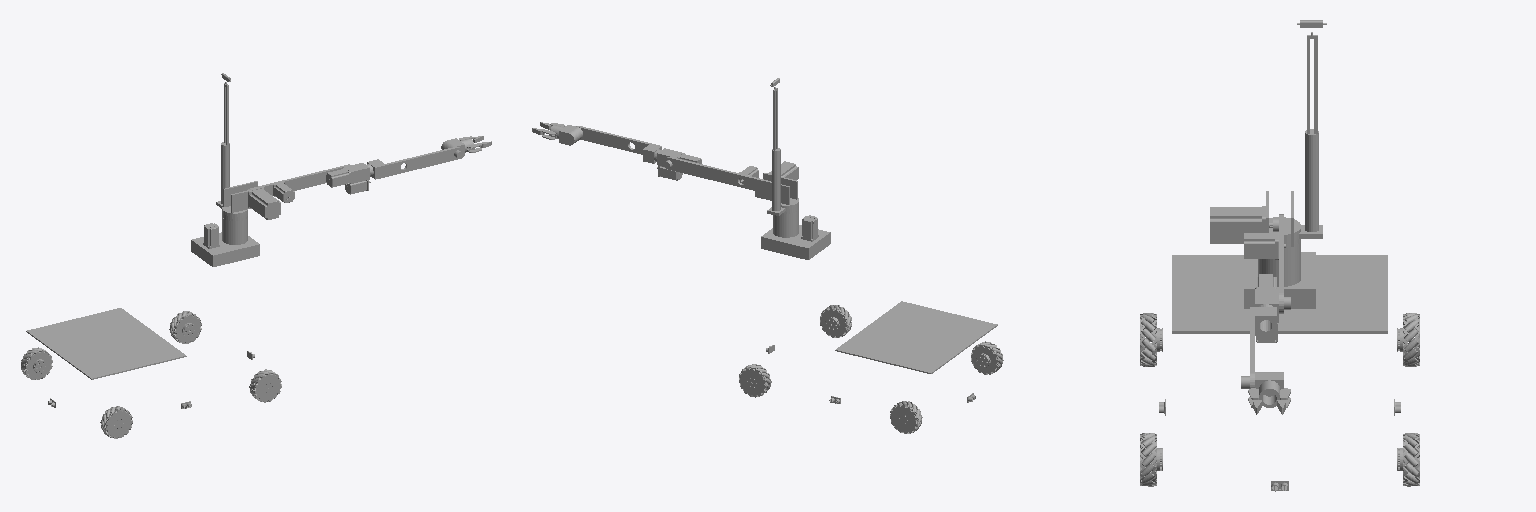
--- Render facts (derived) ---
The picture shows the robot from 3 angles, left to right: view 1: azimuth 30°, elevation 25°; view 2: azimuth 150°, elevation 25°; view 3: azimuth 270°, elevation 25°; orthographic projection.
Robot: robot — 39 links, 38 joints (13 continuous, 25 fixed); root link base_frame; default pose: all joints at 0.
Visible links, largest first — view 1: nylon_platform_1, arm_base_1, base_turnable_1, link_3_1, wheel_front_left_1, wheel_back_right_1, wheel_front_right_1, wheel_back_left_1, NEMA_34_1, link_1_1; view 2: nylon_platform_1, base_turnable_1, arm_base_1, link_1_1, link_3_1, wheel_front_left_1, wheel_back_right_1, wheel_front_right_1, wheel_back_left_1; view 3: nylon_platform_1, base_turnable_1, arm_base_1, NEMA_34_1, link_3_1, wheel_back_left_1, wheel_back_right_1, wheel_front_right_1, wheel_front_left_1, NEMA_24_2_1, modified_gripper_v3_1.
Boxes of the visible links, <box> form: nylon_platform_1: <box>26,308,186,379</box>; arm_base_1: <box>191,217,259,266</box>; base_turnable_1: <box>216,82,265,220</box>; link_3_1: <box>367,147,462,179</box>; wheel_front_left_1: <box>169,311,201,343</box>; wheel_back_right_1: <box>100,406,132,438</box>; wheel_front_right_1: <box>249,369,281,402</box>; wheel_back_left_1: <box>21,347,52,379</box>; NEMA_34_1: <box>248,188,280,219</box>; link_1_1: <box>248,164,349,195</box>; nylon_platform_1: <box>835,301,997,373</box>; base_turnable_1: <box>755,87,798,215</box>; arm_base_1: <box>761,210,830,259</box>; link_1_1: <box>663,157,770,190</box>; link_3_1: <box>576,126,661,163</box>; wheel_front_left_1: <box>739,364,771,397</box>; wheel_back_right_1: <box>971,341,1003,374</box>; wheel_front_right_1: <box>820,305,851,337</box>; wheel_back_left_1: <box>890,401,922,433</box>; nylon_platform_1: <box>1172,255,1387,333</box>; base_turnable_1: <box>1266,32,1322,247</box>; arm_base_1: <box>1244,242,1315,308</box>; NEMA_34_1: <box>1210,206,1272,243</box>; link_3_1: <box>1250,304,1276,388</box>; wheel_back_left_1: <box>1397,313,1419,366</box>; wheel_back_right_1: <box>1140,313,1162,366</box>; wheel_front_right_1: <box>1140,433,1162,486</box>; wheel_front_left_1: <box>1397,433,1419,486</box>; NEMA_24_2_1: <box>1244,232,1285,259</box>; modified_gripper_v3_1: <box>1248,380,1290,407</box>.
Size in the robot's own frame: 2.3 by 0.7818 by 1.45 metres.
25 mesh visuals loaded from 28 distinct referenced files (4 binary STL, 21 Collada DAE); not drawn: 3 (reference not matched to a file when rendering).

The robot description file, URDF, robot "robot":
<?xml version="1.0" ?>
<!-- =================================================================================== -->
<!-- |    This document was autogenerated by xacro from robot.xacro                    | -->
<!-- |    EDITING THIS FILE BY HAND IS NOT RECOMMENDED                                 | -->
<!-- =================================================================================== -->
<robot name="robot">
  <material name="silver">
    <color rgba="0.700 0.700 0.700 1.000"/>
  </material>
  <transmission name="link_1_joint_tran">
    <type>transmission_interface/SimpleTransmission</type>
    <joint name="link_1_joint">
      <hardwareInterface>hardware_interface/VelocityJointInterface</hardwareInterface>
    </joint>
    <actuator name="link_1_joint_actr">
      <hardwareInterface>hardware_interface/VelocityJointInterface</hardwareInterface>
      <mechanicalReduction>1</mechanicalReduction>
    </actuator>
  </transmission>
  <transmission name="link_2_joint_tran">
    <type>transmission_interface/SimpleTransmission</type>
    <joint name="link_2_joint">
      <hardwareInterface>hardware_interface/VelocityJointInterface</hardwareInterface>
    </joint>
    <actuator name="link_2_joint_actr">
      <hardwareInterface>hardware_interface/VelocityJointInterface</hardwareInterface>
      <mechanicalReduction>1</mechanicalReduction>
    </actuator>
  </transmission>
  <transmission name="link_3_joint_tran">
    <type>transmission_interface/SimpleTransmission</type>
    <joint name="link_3_joint">
      <hardwareInterface>hardware_interface/VelocityJointInterface</hardwareInterface>
    </joint>
    <actuator name="link_3_joint_actr">
      <hardwareInterface>hardware_interface/VelocityJointInterface</hardwareInterface>
      <mechanicalReduction>1</mechanicalReduction>
    </actuator>
  </transmission>
  <transmission name="link_end_joint_tran">
    <type>transmission_interface/SimpleTransmission</type>
    <joint name="link_end_joint">
      <hardwareInterface>hardware_interface/VelocityJointInterface</hardwareInterface>
    </joint>
    <actuator name="link_end_joint_actr">
      <hardwareInterface>hardware_interface/VelocityJointInterface</hardwareInterface>
      <mechanicalReduction>1</mechanicalReduction>
    </actuator>
  </transmission>
  <!--

<transmission name="finger_1_joint_tran">
  <type>transmission_interface/SimpleTransmission</type>
  <joint name="finger_1_joint">
    <hardwareInterface>hardware_interface/VelocityJointInterface</hardwareInterface>
  </joint>
  <actuator name="finger_1_joint_actr">
    <hardwareInterface>hardware_interface/VelocityJointInterface</hardwareInterface>
    <mechanicalReduction>1</mechanicalReduction>
  </actuator>
</transmission>

<transmission name="finger_2_joint_tran">
  <type>transmission_interface/SimpleTransmission</type>
  <joint name="finger_2_joint">
    <hardwareInterface>hardware_interface/VelocityJointInterface</hardwareInterface>
  </joint>
  <actuator name="finger_2_joint_actr">
    <hardwareInterface>hardware_interface/VelocityJointInterface</hardwareInterface>
    <mechanicalReduction>1</mechanicalReduction>
  </actuator>
</transmission>

<transmission name="finger_3_joint_tran">
  <type>transmission_interface/SimpleTransmission</type>
  <joint name="finger_3_joint">
    <hardwareInterface>hardware_interface/VelocityJointInterface</hardwareInterface>
  </joint>
  <actuator name="finger_3_joint_actr">
    <hardwareInterface>hardware_interface/VelocityJointInterface</hardwareInterface>
    <mechanicalReduction>1</mechanicalReduction>
  </actuator>
</transmission>
-->
  <!-- <transmission name="gripper_axis_rev_tran">
  <type>transmission_interface/SimpleTransmission</type>
  <joint name="gripper_axis_rev">
    <hardwareInterface>hardware_interface/VelocityJointInterface</hardwareInterface>
  </joint>
  <actuator name="gripper_axis_rev_actr">
    <hardwareInterface>hardware_interface/VelocityJointInterface</hardwareInterface>
    <mechanicalReduction>1</mechanicalReduction>
  </actuator>
</transmission> -->
  <!--


<joint name="Rev45" type="continuous">
  <origin rpy="0 0 0" xyz="0.0845 -0.0325 0.0"/>
  <parent link="modified_gripper_v3_1"/>
  <child link="finger_1_1"/>
  <axis xyz="0.0 0.0 -1.0"/>
</joint>

<joint name="Rev46" type="continuous">
  <origin rpy="0 0 0" xyz="0.049755 -0.89 -1.683756"/>
  <parent link="modified_gripper_v3_1"/>
  <child link="finger_1_3"/>
  <axis xyz="-0.0 0.0 1.0"/>
</joint>

<joint name="Rev47" type="continuous">
  <origin rpy="0 0 0" xyz="0.004109 0.09 0.629833"/>
  <parent link="base_turnable_1"/>
  <child link="camera_stuff_MODIFIED_camera_pitch_rotation_stand_v1_1"/>
  <axis xyz="0.001414 0.0 -0.999999"/>
</joint>


-->
  <!--Finger 1_1 -->
  <transmission name="finger_1_tran">
    <type>transmission_interface/SimpleTransmission</type>
    <joint name="finger_1_revolute_joint">
      <hardwareInterface>hardware_interface/VelocityJointInterface</hardwareInterface>
    </joint>
    <actuator name="finger_1_revolute_actr">
      <hardwareInterface>hardware_interface/VelocityJointInterface</hardwareInterface>
      <mechanicalReduction>1</mechanicalReduction>
    </actuator>
  </transmission>
  <!-- FINGER_1_2 -->
  <transmission name="finger_2_tran">
    <type>transmission_interface/SimpleTransmission</type>
    <joint name="finger_2_revolute_joint">
      <hardwareInterface>hardware_interface/VelocityJointInterface</hardwareInterface>
    </joint>
    <actuator name="finger_2_revolute_actr">
      <hardwareInterface>hardware_interface/VelocityJointInterface</hardwareInterface>
      <mechanicalReduction>1</mechanicalReduction>
    </actuator>
  </transmission>
  <!-- camera  pitch rotation stand yaw -->
  <transmission name="camera_yaw_rotation_tran">
    <type>transmission_interface/SimpleTransmission</type>
    <joint name="camera_yaw_rotation">
      <hardwareInterface>hardware_interface/VelocityJointInterface</hardwareInterface>
    </joint>
    <actuator name="camera_yaw_rotation_actr">
      <hardwareInterface>hardware_interface/VelocityJointInterface</hardwareInterface>
      <mechanicalReduction>1</mechanicalReduction>
    </actuator>
  </transmission>
  <!-- camera_stuff_MODIFIED_camera_pitch_rotation_base_v1_1 pitch -->
  <transmission name="camera_pitch_rotation_tran">
    <type>transmission_interface/SimpleTransmission</type>
    <joint name="camera_pitch_rotation">
      <hardwareInterface>hardware_interface/VelocityJointInterface</hardwareInterface>
    </joint>
    <actuator name="camera_pitch_rotation_actr">
      <hardwareInterface>hardware_interface/VelocityJointInterface</hardwareInterface>
      <mechanicalReduction>1</mechanicalReduction>
    </actuator>
  </transmission>
  <!--
<transmission name="Rev49_tran">
  <type>transmission_interface/SimpleTransmission</type>
  <joint name="Rev49">
    <hardwareInterface>hardware_interface/VelocityJointInterface</hardwareInterface>
  </joint>
  <actuator name="Rev49_actr">
    <hardwareInterface>hardware_interface/VelocityJointInterface</hardwareInterface>
    <mechanicalReduction>1</mechanicalReduction>
  </actuator>
</transmission>
-->
  <!--
<transmission name="wheel_joint_front_left_tran">
  <type>transmission_interface/SimpleTransmission</type>
  <joint name="wheel_joint_front_left">
    <hardwareInterface>hardware_interface/VelocityJointInterface</hardwareInterface>
  </joint>
  <actuator name="wheel_joint_front_left_actr">
    <hardwareInterface>hardware_interface/VelocityJointInterface</hardwareInterface>
    <mechanicalReduction>1</mechanicalReduction>
  </actuator>
</transmission>

<transmission name="wheel_joint_back_right_tran">
  <type>transmission_interface/SimpleTransmission</type>
  <joint name="wheel_joint_back_right">
    <hardwareInterface>hardware_interface/VelocityJointInterface</hardwareInterface>
  </joint>
  <actuator name="wheel_joint_back_right_actr">
    <hardwareInterface>hardware_interface/VelocityJointInterface</hardwareInterface>
    <mechanicalReduction>1</mechanicalReduction>
  </actuator>
</transmission>

<transmission name="wheel_joint_front_right_tran">
  <type>transmission_interface/SimpleTransmission</type>
  <joint name="wheel_joint_front_right">
    <hardwareInterface>hardware_interface/VelocityJointInterface</hardwareInterface>
  </joint>
  <actuator name="wheel_joint_front_right_actr">
    <hardwareInterface>hardware_interface/VelocityJointInterface</hardwareInterface>
    <mechanicalReduction>1</mechanicalReduction>
  </actuator>
</transmission>

<transmission name="wheel_joint_back_left_tran">
  <type>transmission_interface/SimpleTransmission</type>
  <joint name="wheel_joint_back_left">
    <hardwareInterface>hardware_interface/VelocityJointInterface</hardwareInterface>
  </joint>
  <actuator name="wheel_joint_back_left_actr">
    <hardwareInterface>hardware_interface/VelocityJointInterface</hardwareInterface>
    <mechanicalReduction>1</mechanicalReduction>
  </actuator>
</transmission>
-->
  <transmission name="arm_base_joint_tran">
    <type>transmission_interface/SimpleTransmission</type>
    <joint name="arm_base_joint">
      <hardwareInterface>hardware_interface/VelocityJointInterface</hardwareInterface>
    </joint>
    <actuator name="arm_base_joint_actr">
      <hardwareInterface>hardware_interface/VelocityJointInterface</hardwareInterface>
      <mechanicalReduction>1</mechanicalReduction>
    </actuator>
  </transmission>
  <!--
<transmission name="camera_revolute_tran">
  <type>transmission_interface/SimpleTransmission</type>
  <joint name="camera_revolute">
    <hardwareInterface>hardware_interface/VelocityJointInterface</hardwareInterface>
  </joint>
  <actuator name="camera_revolute_actr">
    <hardwareInterface>hardware_interface/VelocityJointInterface</hardwareInterface>
    <mechanicalReduction>1</mechanicalReduction>
  </actuator>
</transmission>
-->
  <gazebo>
    <plugin filename="libgazebo_ros_control.so" name="gazebo_ros_control">
      <robotNamespace>/robot</robotNamespace>
      <robotSimType>gazebo_ros_control/DefaultRobotHWSim</robotSimType>
    </plugin>
  </gazebo>
  <gazebo>
    <plugin filename="libnexus_ros_force_based_move.so" name="nexus_ros_force_based_move">
      <commandTopic>cmd_vel</commandTopic>
      <odometryTopic>odom</odometryTopic>
      <odometryFrame>odom</odometryFrame>
      <odometryRate>25.0</odometryRate>
      <robotBaseFrame>base_frame</robotBaseFrame>
      <cmdVelTimeOut>0.25</cmdVelTimeOut>
      <publishOdometryTf>0</publishOdometryTf>
      <yaw_velocity_p_gain>100.0</yaw_velocity_p_gain>
      <x_velocity_p_gain>150.0</x_velocity_p_gain>
      <y_velocity_p_gain>150.0</y_velocity_p_gain>
      <max_x_velocity>10.0</max_x_velocity>
      <max_y_velocity>10.0</max_y_velocity>
      <max_yaw_velocity>5.0</max_yaw_velocity>
    </plugin>
  </gazebo>
  <gazebo reference="dummy">
    <gravity>true</gravity>
  </gazebo>
  <gazebo reference="base_link">
    <material>Gazebo/Silver</material>
    <mu1>0.2</mu1>
    <mu2>0.2</mu2>
    <selfCollide>true</selfCollide>
  </gazebo>
  <gazebo reference="arm_base_1">
    <material>Gazebo/Silver</material>
    <mu1>0.2</mu1>
    <mu2>0.2</mu2>
    <selfCollide>true</selfCollide>
  </gazebo>
  <gazebo reference="stepper_joint_1">
    <material>Gazebo/Silver</material>
    <mu1>0.2</mu1>
    <mu2>0.2</mu2>
    <selfCollide>true</selfCollide>
  </gazebo>
  <gazebo reference="link_1_1">
    <material>Gazebo/Silver</material>
    <mu1>0.2</mu1>
    <mu2>0.2</mu2>
    <selfCollide>true</selfCollide>
  </gazebo>
  <gazebo reference="link_2_1">
    <material>Gazebo/Silver</material>
    <mu1>0.2</mu1>
    <mu2>0.2</mu2>
    <selfCollide>true</selfCollide>
  </gazebo>
  <gazebo reference="link_3_1">
    <material>Gazebo/Silver</material>
    <mu1>0.2</mu1>
    <mu2>0.2</mu2>
    <selfCollide>true</selfCollide>
  </gazebo>
  <gazebo reference="link_end_1">
    <material>Gazebo/Silver</material>
    <mu1>0.2</mu1>
    <mu2>0.2</mu2>
    <selfCollide>true</selfCollide>
  </gazebo>
  <gazebo reference="NEMA_24_2_1">
    <material>Gazebo/Silver</material>
    <mu1>0.2</mu1>
    <mu2>0.2</mu2>
    <selfCollide>true</selfCollide>
  </gazebo>
  <gazebo reference="NEMA_24_3_1">
    <material>Gazebo/Silver</material>
    <mu1>0.2</mu1>
    <mu2>0.2</mu2>
    <selfCollide>true</selfCollide>
  </gazebo>
  <gazebo reference="NEMA_24_4_1">
    <material>Gazebo/Silver</material>
    <mu1>0.2</mu1>
    <mu2>0.2</mu2>
    <selfCollide>true</selfCollide>
  </gazebo>
  <gazebo reference="modified_gripper_v3_1">
    <material>Gazebo/Silver</material>
    <mu1>0.2</mu1>
    <mu2>0.2</mu2>
    <selfCollide>true</selfCollide>
  </gazebo>
  <gazebo reference="finger_1_1">
    <material>Gazebo/Silver</material>
    <mu1>0.0</mu1>
    <mu2>0.0</mu2>
    <selfCollide>true</selfCollide>
  </gazebo>
  <gazebo reference="finger_2_1">
    <material>Gazebo/Silver</material>
    <mu1>0.0</mu1>
    <mu2>0.0</mu2>
    <selfCollide>true</selfCollide>
  </gazebo>
  <gazebo reference="camera_stuff_MODIFIED_camera_pitch_rotation_stand_v1_1">
    <material>Gazebo/Silver</material>
    <mu1>0.2</mu1>
    <mu2>0.2</mu2>
    <selfCollide>true</selfCollide>
  </gazebo>
  <gazebo reference="camera_stuff_MODIFIED_camera_pitch_rotation_base_v1_1">
    <material>Gazebo/Silver</material>
    <mu1>0.2</mu1>
    <mu2>0.2</mu2>
    <selfCollide>true</selfCollide>
  </gazebo>
  <gazebo reference="wheel_front_left_1">
    <material>Gazebo/Silver</material>
    <mu1>0.0</mu1>
    <mu2>0.0</mu2>
    <selfCollide>true</selfCollide>
  </gazebo>
  <gazebo reference="wheel_back_right_1">
    <material>Gazebo/Silver</material>
    <mu1>0.0</mu1>
    <mu2>0.0</mu2>
    <selfCollide>true</selfCollide>
  </gazebo>
  <gazebo reference="wheel_front_right_1">
    <material>Gazebo/Silver</material>
    <mu1>0.0</mu1>
    <mu2>0.0</mu2>
    <selfCollide>true</selfCollide>
  </gazebo>
  <gazebo reference="wheel_back_left_1">
    <material>Gazebo/Silver</material>
    <mu1>0.0</mu1>
    <mu2>0.0</mu2>
    <selfCollide>true</selfCollide>
  </gazebo>
  <gazebo reference="nylon_platform_1">
    <material>Gazebo/Silver</material>
    <mu1>0.2</mu1>
    <mu2>0.2</mu2>
    <selfCollide>true</selfCollide>
  </gazebo>
  <gazebo reference="base_turnable_1">
    <material>Gazebo/Silver</material>
    <mu1>0.2</mu1>
    <mu2>0.2</mu2>
    <selfCollide>true</selfCollide>
  </gazebo>
  <gazebo reference="NEMA_34_1">
    <material>Gazebo/Silver</material>
    <mu1>0.2</mu1>
    <mu2>0.2</mu2>
    <selfCollide>true</selfCollide>
  </gazebo>
  <gazebo reference="RealSense_Camera_1">
    <material>Gazebo/Silver</material>
    <mu1>0.2</mu1>
    <mu2>0.2</mu2>
    <selfCollide>true</selfCollide>
  </gazebo>
  <gazebo reference="NEMA_24_1_1">
    <material>Gazebo/Silver</material>
    <mu1>0.2</mu1>
    <mu2>0.2</mu2>
    <selfCollide>true</selfCollide>
  </gazebo>
  <gazebo reference="DistanceSensor_front_1">
    <material>Gazebo/Silver</material>
    <mu1>0.2</mu1>
    <mu2>0.2</mu2>
    <selfCollide>true</selfCollide>
  </gazebo>
  <gazebo reference="DistanceSensor_left_1">
    <material>Gazebo/Silver</material>
    <mu1>0.2</mu1>
    <mu2>0.2</mu2>
    <selfCollide>true</selfCollide>
  </gazebo>
  <gazebo reference="DistanceSensor_right_1">
    <material>Gazebo/Silver</material>
    <mu1>0.2</mu1>
    <mu2>0.2</mu2>
    <selfCollide>true</selfCollide>
  </gazebo>
  <gazebo reference="DistanceSensor_back_1">
    <material>Gazebo/Silver</material>
    <mu1>0.2</mu1>
    <mu2>0.2</mu2>
    <selfCollide>true</selfCollide>
  </gazebo>
  <link name="base_frame"/>
  <joint name="base_frame_joint" type="fixed">
    <origin rpy="0 0 0" xyz="0 0 0"/>
    <parent link="base_frame"/>
    <child link="base_link"/>
  </joint>
  <link name="base_link">
    <inertial>
      <origin rpy="0 0 0" xyz="-0.00015399363028194057 -0.03925075208016042 0.2644524795806922"/>
      <mass value="31.054157277051146"/>
      <inertia ixx="3.596388" ixy="5e-06" ixz="-0.123996" iyy="5.832947" iyz="8.8e-05" izz="6.339272"/>
    </inertial>
    <visual>
      <origin rpy="0 0 0" xyz="0 0 0"/>
      <geometry>
        <mesh filename="package://robot_description/meshes/base_link.dae" scale="0.001 0.001 0.001"/>
      </geometry>
      <material name="silver"/>
    </visual>
    <collision>
      <origin rpy="0 0 0" xyz="0 0 0"/>
      <geometry>
        <mesh filename="package://robot_description/meshes/base_link.dae" scale="0.001 0.001 0.001"/>
      </geometry>
    </collision>
  </link>
  <link name="arm_base_1">
    <inertial>
      <origin rpy="0 0 0" xyz="-0.10852294745565316 4.764549026911591e-07 0.07021749351752882"/>
      <mass value="2.9829690964186772"/>
      <inertia ixx="0.017973" ixy="0.0" ixz="-0.002884" iyy="0.024074" iyz="0.0" izz="0.02919"/>
    </inertial>
    <visual>
      <origin rpy="0 0 0" xyz="-0.514256 0.039266 -0.595"/>
      <geometry>
        <mesh filename="package://robot_description/meshes/arm_base_1.dae" scale="0.001 0.001 0.001"/>
      </geometry>
      <material name="silver"/>
    </visual>
    <collision>
      <origin rpy="0 0 0" xyz="-0.514256 0.039266 -0.595"/>
      <geometry>
        <mesh filename="package://robot_description/meshes/arm_base_1.dae" scale="0.001 0.001 0.001"/>
      </geometry>
    </collision>
  </link>
  <link name="stepper_joint_1">
    <inertial>
      <origin rpy="0 0 0" xyz="2.341512516101929e-07 -0.007499523545187715 1.1102230246251565e-16"/>
      <mass value="0.10172869711405369"/>
      <inertia ixx="1.1e-05" ixy="0.0" ixz="-0.0" iyy="1.9e-05" iyz="-0.0" izz="1.1e-05"/>
    </inertial>
    <visual>
      <origin rpy="0 0 0" xyz="-0.529256 0.042746 -0.86"/>
      <geometry>
        <mesh filename="package://robot_description/meshes/stepper_joint_1.dae" scale="0.001 0.001 0.001"/>
      </geometry>
      <material name="silver"/>
    </visual>
    <collision>
      <origin rpy="0 0 0" xyz="-0.529256 0.042746 -0.86"/>
      <geometry>
        <mesh filename="package://robot_description/meshes/stepper_joint_1.dae" scale="0.001 0.001 0.001"/>
      </geometry>
    </collision>
  </link>
  <link name="link_1_1">
    <inertial>
      <origin rpy="0 0 0" xyz="0.2614823003165665 0.0075004764548120065 0.0"/>
      <mass value="1.2422891158221263"/>
      <inertia ixx="0.000414" ixy="0.0" ixz="0.0" iyy="0.03033" iyz="0.0" izz="0.029962"/>
    </inertial>
    <visual>
      <origin rpy="0 0 0" xyz="-0.529256 0.042746 -0.86"/>
      <geometry>
        <mesh filename="package://robot_description/meshes/link_1_1.dae" scale="0.001 0.001 0.001"/>
      </geometry>
      <material name="silver"/>
    </visual>
    <collision>
      <origin rpy="0 0 0" xyz="-0.529256 0.042746 -0.86"/>
      <geometry>
        <mesh filename="package://robot_description/meshes/link_1_1.dae" scale="0.001 0.001 0.001"/>
      </geometry>
    </collision>
  </link>
  <link name="link_2_1">
    <inertial>
      <origin rpy="0 0 0" xyz="0.017800019585049176 -0.026213196213553565 0.0"/>
      <mass value="0.8743627585315773"/>
      <inertia ixx="0.000864" ixy="8.4e-05" ixz="0.0" iyy="0.000992" iyz="-0.0" izz="0.001253"/>
    </inertial>
    <visual>
      <origin rpy="0 0 0" xyz="-1.044256 0.042746 -0.86"/>
      <geometry>
        <mesh filename="package://robot_description/meshes/link_2_1.dae" scale="0.001 0.001 0.001"/>
      </geometry>
      <material name="silver"/>
    </visual>
    <collision>
      <origin rpy="0 0 0" xyz="-1.044256 0.042746 -0.86"/>
      <geometry>
        <mesh filename="package://robot_description/meshes/link_2_1.dae" scale="0.001 0.001 0.001"/>
      </geometry>
    </collision>
  </link>
  <link name="link_3_1">
    <inertial>
      <origin rpy="0 0 0" xyz="0.17692244776626231 -0.02499804736277332 3.3306690738754696e-16"/>
      <mass value="1.5478777520934175"/>
      <inertia ixx="0.001209" ixy="0.002603" ixz="-0.0" iyy="0.032303" iyz="0.0" izz="0.032482"/>
    </inertial>
    <visual>
      <origin rpy="0 0 0" xyz="-1.114256 0.077746 -0.86"/>
      <geometry>
        <mesh filename="package://robot_description/meshes/link_3_1.dae" scale="0.001 0.001 0.001"/>
      </geometry>
      <material name="silver"/>
    </visual>
    <collision>
      <origin rpy="0 0 0" xyz="-1.114256 0.077746 -0.86"/>
      <geometry>
        <mesh filename="package://robot_description/meshes/link_3_1.dae" scale="0.001 0.001 0.001"/>
      </geometry>
    </collision>
  </link>
  <link name="link_end_1">
    <inertial>
      <origin rpy="0 0 0" xyz="0.011579352213925143 0.033797262451582544 1.1102230246251565e-16"/>
      <mass value="1.063293416063342"/>
      <inertia ixx="0.00115" ixy="-7.6e-05" ixz="-0.0" iyy="0.000747" iyz="0.0" izz="0.001353"/>
    </inertial>
    <visual>
      <origin rpy="0 0 0" xyz="-1.569256 0.107746 -0.86"/>
      <geometry>
        <mesh filename="package://robot_description/meshes/link_end_1.dae" scale="0.001 0.001 0.001"/>
      </geometry>
      <material name="silver"/>
    </visual>
    <collision>
      <origin rpy="0 0 0" xyz="-1.569256 0.107746 -0.86"/>
      <geometry>
        <mesh filename="package://robot_description/meshes/link_end_1.dae" scale="0.001 0.001 0.001"/>
      </geometry>
    </collision>
  </link>
  <link name="NEMA_24_2_1">
    <inertial>
      <origin rpy="0 0 0" xyz="3.107106621991207e-07 -0.04795031839924011 2.5568133203979215e-06"/>
      <mass value="2.4982959259379585"/>
      <inertia ixx="0.002718" ixy="0.0" ixz="0.0" iyy="0.001293" iyz="0.0" izz="0.002718"/>
    </inertial>
    <visual>
      <origin rpy="0 0 0" xyz="-0.666756 0.042746 -0.86"/>
      <geometry>
        <mesh filename="package://robot_description/meshes/NEMA_24_2_1.dae" scale="0.001 0.001 0.001"/>
      </geometry>
      <material name="silver"/>
    </visual>
    <collision>
      <origin rpy="0 0 0" xyz="-0.666756 0.042746 -0.86"/>
      <geometry>
        <mesh filename="package://robot_description/meshes/NEMA_24_2_1.dae" scale="0.001 0.001 0.001"/>
      </geometry>
    </collision>
  </link>
  <link name="NEMA_24_3_1">
    <inertial>
      <origin rpy="0 0 0" xyz="-0.04744967584155013 4.039331734789764e-07 3.008172847374091e-06"/>
      <mass value="0.9071303592190116"/>
      <inertia ixx="0.000445" ixy="-0.0" ixz="0.0" iyy="0.000995" iyz="-0.0" izz="0.000995"/>
    </inertial>
    <visual>
      <origin rpy="0 0 0" xyz="-1.014256 0.077746 -0.86"/>
      <geometry>
        <mesh filename="package://robot_description/meshes/NEMA_24_3_1.dae" scale="0.001 0.001 0.001"/>
      </geometry>
      <material name="silver"/>
    </visual>
    <collision>
      <origin rpy="0 0 0" xyz="-1.014256 0.077746 -0.86"/>
      <geometry>
        <mesh filename="package://robot_description/meshes/NEMA_24_3_1.dae" scale="0.001 0.001 0.001"/>
      </geometry>
    </collision>
  </link>
  <link name="NEMA_24_4_1">
    <inertial>
      <origin rpy="0 0 0" xyz="0.0014503241584495896 5.489764498406435e-07 -0.029803008172847645"/>
      <mass value="0.9071303592190116"/>
      <inertia ixx="0.000445" ixy="0.0" ixz="-0.0" iyy="0.000995" iyz="-0.0" izz="0.000995"/>
    </inertial>
    <visual>
      <origin rpy="0 0 0" xyz="-1.064256 0.075246 -0.83"/>
      <geometry>
        <mesh filename="package://robot_description/meshes/NEMA_24_4_1.dae" scale="0.001 0.001 0.001"/>
      </geometry>
      <material name="silver"/>
    </visual>
    <collision>
      <origin rpy="0 0 0" xyz="-1.064256 0.075246 -0.83"/>
      <geometry>
        <mesh filename="package://robot_description/meshes/NEMA_24_4_1.dae" scale="0.001 0.001 0.001"/>
      </geometry>
    </collision>
  </link>
  <!--
<link name="gripper_base_1">
  <inertial>
    <origin rpy="0 0 0" xyz="0.03673679203693969 4.773286157999657e-07 1.1906853281118401e-10"/>
    <mass value="0.3892056116726888"/>
    <inertia ixx="0.000453" ixy="-0.0" ixz="-0.0" iyy="0.000387" iyz="0.0" izz="0.000387"/>
  </inertial>
  <visual>
    <origin rpy="0 0 0" xyz="-1.619256 0.067746 -0.86"/>
    <geometry>
      <mesh filename="package://robot_description/meshes/gripper_base_1.dae" scale="0.001 0.001 0.001"/>
    </geometry>
    <material name="silver"/>
  </visual>
  <collision>
    <origin rpy="0 0 0" xyz="-1.619256 0.067746 -0.86"/>
    <geometry>
      <mesh filename="package://robot_description/meshes/gripper_base_1.dae" scale="0.001 0.001 0.001"/>
    </geometry>
  </collision>
</link>

<link name="gripper_finger_1_1">
  <inertial>
    <origin rpy="0 0 0" xyz="0.022980202741784472 4.7678311926313555e-07 0.0048653337708142175"/>
    <mass value="0.025835822102978977"/>
    <inertia ixx="1e-06" ixy="-0.0" ixz="-0.0" iyy="6e-06" iyz="0.0" izz="6e-06"/>
  </inertial>
  <visual>
    <origin rpy="0 0 0" xyz="-1.703756 0.067746 -0.8925"/>
    <geometry>
      <mesh filename="package://robot_description/meshes/gripper_finger_1_1.dae" scale="0.001 0.001 0.001"/>
    </geometry>
    <material name="silver"/>
  </visual>
  <collision>
    <origin rpy="0 0 0" xyz="-1.703756 0.067746 -0.8925"/>
    <geometry>
      <mesh filename="package://robot_description/meshes/gripper_finger_1_1.dae" scale="0.001 0.001 0.001"/>
    </geometry>
  </collision>
</link>

<link name="gripper_finger_2_1">
  <inertial>
    <origin rpy="0 0 0" xyz="0.02298020274178514 -0.004213851845047717 -0.0024326668274717855"/>
    <mass value="0.025835822102978977"/>
    <inertia ixx="1e-06" ixy="0.0" ixz="0.0" iyy="6e-06" iyz="0.0" izz="6e-06"/>
  </inertial>
  <visual>
    <origin rpy="0 0 0" xyz="-1.703756 0.095891 -0.84375"/>
    <geometry>
      <mesh filename="package://robot_description/meshes/gripper_finger_2_1.dae" scale="0.001 0.001 0.001"/>
    </geometry>
    <material name="silver"/>
  </visual>
  <collision>
    <origin rpy="0 0 0" xyz="-1.703756 0.095891 -0.84375"/>
    <geometry>
      <mesh filename="package://robot_description/meshes/gripper_finger_2_1.dae" scale="0.001 0.001 0.001"/>
    </geometry>
  </collision>
</link>

<link name="gripper_finger_3_1">
  <inertial>
    <origin rpy="0 0 0" xyz="0.02298020274178514 0.004213804557066415 -0.0024326671697302293"/>
    <mass value="0.025835822102978977"/>
    <inertia ixx="1e-06" ixy="-0.0" ixz="0.0" iyy="6e-06" iyz="-0.0" izz="6e-06"/>
  </inertial>
  <visual>
    <origin rpy="0 0 0" xyz="-1.703756 0.0396 -0.84375"/>
    <geometry>
      <mesh filename="package://robot_description/meshes/gripper_finger_3_1.dae" scale="0.001 0.001 0.001"/>
    </geometry>
    <material name="silver"/>
  </visual>
  <collision>
    <origin rpy="0 0 0" xyz="-1.703756 0.0396 -0.84375"/>
    <geometry>
      <mesh filename="package://robot_description/meshes/gripper_finger_3_1.dae" scale="0.001 0.001 0.001"/>
    </geometry>
  </collision>
</link>


-->
  <!--WHEELS-->
  <link name="wheel_front_left_1">
    <inertial>
      <origin rpy="0 0 0" xyz="4.432951922206385e-07 -0.02746282748166934 -1.346983284356007e-07"/>
      <mass value="1.1212840703003284"/>
      <inertia ixx="0.002009" ixy="0.0" ixz="0.0" iyy="0.003227" iyz="-0.0" izz="0.002009"/>
    </inertial>
    <visual>
      <origin rpy="0 0 0" xyz="-0.389785 -0.351556 -0.072882"/>
      <geometry>
        <mesh filename="package://robot_description/meshes/wheel_front_left_1.dae" scale="0.001 0.001 0.001"/>
      </geometry>
      <material name="silver"/>
    </visual>
    <collision>
      <!--origin rpy="0 0 0" xyz="-0.389785 -0.351556 -0.072882"/>
    <geometry>
      <mesh filename="package://robot_description/meshes/wheel_front_left_1.dae" scale="0.001 0.001 0.001"/>
    </geometry-->
      <origin rpy="1.57 0 0" xyz="0 -0.025 0"/>
      <geometry>
        <cylinder length="0.05" radius="0.075"/>
      </geometry>
    </collision>
  </link>
  <link name="wheel_back_right_1">
    <inertial>
      <origin rpy="0 0 0" xyz="-1.2505490770697847e-07 0.02746359966411499 -1.3465862684636232e-07"/>
      <mass value="1.121282907418049"/>
      <inertia ixx="0.002009" ixy="0.0" ixz="-0.0" iyy="0.003227" iyz="0.0" izz="0.002009"/>
    </inertial>
    <visual>
      <origin rpy="0 0 0" xyz="0.399993 0.429444 -0.072882"/>
      <geometry>
        <mesh filename="package://robot_description/meshes/wheel_back_right_1.dae" scale="0.001 0.001 0.001"/>
      </geometry>
      <material name="silver"/>
    </visual>
    <collision>
      <!--origin rpy="0 0 0" xyz="0.399993 0.429444 -0.072882"/>
    <geometry>
      <mesh filename="package://robot_description/meshes/wheel_back_right_1.dae" scale="0.001 0.001 0.001"/>
    </geometry-->
      <origin rpy="1.57 0 0" xyz="0 0.025 0"/>
      <geometry>
        <cylinder length="0.05" radius="0.075"/>
      </geometry>
    </collision>
  </link>
  <link name="wheel_front_right_1">
    <inertial>
      <origin rpy="0 0 0" xyz="-1.260755462806351e-07 0.027463574797679857 -1.3559114592220922e-07"/>
      <mass value="1.121283635279382"/>
      <inertia ixx="0.002009" ixy="0.0" ixz="-0.0" iyy="0.003227" iyz="0.0" izz="0.002009"/>
    </inertial>
    <visual>
      <origin rpy="0 0 0" xyz="-0.390007 0.429444 -0.072882"/>
      <geometry>
        <mesh filename="package://robot_description/meshes/wheel_front_right_1.dae" scale="0.001 0.001 0.001"/>
      </geometry>
      <material name="silver"/>
    </visual>
    <collision>
      <!--origin rpy="0 0 0" xyz="-0.390007 0.429444 -0.072882"/>
    <geometry>
      <mesh filename="package://robot_description/meshes/wheel_front_right_1.dae" scale="0.001 0.001 0.001"/>
    </geometry-->
      <origin rpy="1.57 0 0" xyz="0 0.025 0"/>
      <geometry>
        <cylinder length="0.05" radius="0.075"/>
      </geometry>
    </collision>
  </link>
  <link name="wheel_back_left_1">
    <inertial>
      <origin rpy="0 0 0" xyz="4.4379789443382833e-07 -0.02746283333611338 -1.3537967641363835e-07"/>
      <mass value="1.1212813837583047"/>
      <inertia ixx="0.002009" ixy="-0.0" ixz="0.0" iyy="0.003227" iyz="-0.0" izz="0.002009"/>
    </inertial>
    <visual>
      <origin rpy="0 0 0" xyz="0.400215 -0.351556 -0.072882"/>
      <geometry>
        <mesh filename="package://robot_description/meshes/wheel_back_left_1.dae" scale="0.001 0.001 0.001"/>
      </geometry>
      <material name="silver"/>
    </visual>
    <collision>
      <!--origin rpy="0 0 0" xyz="0.400215 -0.351556 -0.072882"/>
    <geometry>
      <mesh filename="package://robot_description/meshes/wheel_back_left_1.dae" scale="0.001 0.001 0.001"/>
    </geometry-->
      <origin rpy="1.57 0 0" xyz="0 -0.025 0"/>
      <geometry>
        <cylinder length="0.05" radius="0.075"/>
      </geometry>
    </collision>
  </link>
  <link name="nylon_platform_1">
    <inertial>
      <origin rpy="0 0 0" xyz="1.5062866637327588e-07 4.7645481348473906e-07 0.003175431748572266"/>
      <mass value="2.1524166451200006"/>
      <inertia ixx="0.065097" ixy="-0.0" ixz="0.0" iyy="0.045281" iyz="-0.0" izz="0.110364"/>
    </inertial>
    <visual>
      <origin rpy="0 0 0" xyz="0.242882 0.039266 -0.283202"/>
      <geometry>
        <mesh filename="package://robot_description/meshes/nylon_platform_1.dae" scale="0.001 0.001 0.001"/>
      </geometry>
      <material name="silver"/>
    </visual>
    <collision>
      <origin rpy="0 0 0" xyz="0.242882 0.039266 -0.283202"/>
      <geometry>
        <mesh filename="package://robot_description/meshes/nylon_platform_1.dae" scale="0.001 0.001 0.001"/>
      </geometry>
    </collision>
  </link>
  <link name="base_turnable_1">
    <inertial>
      <origin rpy="0 0 0" xyz="0.0054287840120818 0.019681365316078368 0.023506450840144688"/>
      <mass value="6.27904528107532"/>
      <inertia ixx="0.115631" ixy="0.000233" ixz="-0.002428" iyy="0.109757" iyz="-0.021421" izz="0.018856"/>
    </inertial>
    <visual>
      <origin rpy="0 0 0" xyz="-0.439256 0.039266 -0.775"/>
      <geometry>
        <mesh filename="package://robot_description/meshes/base_turnable_1.dae" scale="0.001 0.001 0.001"/>
      </geometry>
      <material name="silver"/>
    </visual>
    <collision>
      <origin rpy="0 0 0" xyz="-0.439256 0.039266 -0.775"/>
      <geometry>
        <mesh filename="package://robot_description/meshes/base_turnable_1.dae" scale="0.001 0.001 0.001"/>
      </geometry>
    </collision>
  </link>
  <link name="NEMA_34_1">
    <inertial>
      <origin rpy="0 0 0" xyz="-1.8231621852216051e-06 -0.07677876842578721 -1.1102230246251565e-16"/>
      <mass value="8.323733041924031"/>
      <inertia ixx="0.021977" ixy="2e-06" ixz="0.0" iyy="0.008997" iyz="0.0" izz="0.021977"/>
    </inertial>
    <visual>
      <origin rpy="0 0 0" xyz="-0.529256 0.079266 -0.86"/>
      <geometry>
        <mesh filename="package://robot_description/meshes/NEMA_34_1.dae" scale="0.001 0.001 0.001"/>
      </geometry>
      <material name="silver"/>
    </visual>
    <collision>
      <origin rpy="0 0 0" xyz="-0.529256 0.079266 -0.86"/>
      <geometry>
        <mesh filename="package://robot_description/meshes/NEMA_34_1.dae" scale="0.001 0.001 0.001"/>
      </geometry>
    </collision>
  </link>
  <!--
<link name="RealSense_Camera_1">
  <inertial>
    <origin rpy="0 0 0" xyz="0.001044234578889247 0.0010700784612081293 0.01201138007609126"/>
    <mass value="0.03698911171124503"/>
    <inertia ixx="2.4e-05" ixy="0.0" ixz="0.0" iyy="3e-06" iyz="-0.0" izz="2.4e-05"/>
  </inertial>
  <visual>
    <origin rpy="0 0 0" xyz="-0.444256 -0.050734 -1.404827"/>
    <geometry>
      <mesh filename="package://robot_description/meshes/RealSense_Camera_1.dae" scale="0.001 0.001 0.001"/>
    </geometry>
    <material name="silver"/>
  </visual>
  <collision>
    <origin rpy="0 0 0" xyz="-0.444256 -0.050734 -1.404827"/>
    <geometry>
      <mesh filename="package://robot_description/meshes/RealSense_Camera_1.dae" scale="0.001 0.001 0.001"/>
    </geometry>
  </collision>
</link>
-->
  <link name="RealSense_Camera_1"/>
  <material name="camera_aluminum">
    <color rgba="0.5 0.5 0.5 1"/>
  </material>
  <!-- camera body, with origin at bottom screw mount -->
  <joint name="camera_joint" type="fixed">
    <origin rpy="0 0 0" xyz="0 0 0"/>
    <parent link="RealSense_Camera_1"/>
    <child link="camera_bottom_screw_frame"/>
  </joint>
  <link name="camera_bottom_screw_frame"/>
  <joint name="camera_link_joint" type="fixed">
    <origin rpy="0 0 0" xyz="0 0.0175 0.0125"/>
    <parent link="camera_bottom_screw_frame"/>
    <child link="camera_link"/>
  </joint>
  <link name="camera_link">
    <visual>
      <origin rpy="1.5707963267948966 0 1.5707963267948966" xyz="0.0149 -0.0175 0"/>
      <geometry>
        <!-- <box size="${d435_cam_width} ${d435_cam_height} ${d435_cam_depth}"/> -->
        <mesh filename="package://robot_description/meshes/d435.dae"/>
        <!--<mesh filename="package://realsense2_description/meshes/d435/d435.dae" />-->
      </geometry>
      <material name="camera_aluminum"/>
    </visual>
    <collision>
      <origin rpy="0 0 0" xyz="0 -0.0175 0"/>
      <geometry>
        <box size="0.02505 0.09 0.025"/>
      </geometry>
    </collision>
    <inertial>
      <!-- The following are not reliable values, and should not be used for modeling -->
      <mass value="0.564"/>
      <origin xyz="0 0 0"/>
      <inertia ixx="0.003881243" ixy="0.0" ixz="0.0" iyy="0.000498940" iyz="0.0" izz="0.003879257"/>
    </inertial>
  </link>
  <!-- camera depth joints and links -->
  <joint name="camera_depth_joint" type="fixed">
    <origin rpy="0 0 0" xyz="0 0 0"/>
    <parent link="camera_link"/>
    <child link="camera_depth_frame"/>
  </joint>
  <link name="camera_depth_frame"/>
  <joint name="camera_depth_optical_joint" type="fixed">
    <origin rpy="-1.5707963267948966 0 -1.5707963267948966" xyz="0 0 0"/>
    <parent link="camera_depth_frame"/>
    <child link="camera_depth_optical_frame"/>
  </joint>
  <link name="camera_depth_optical_frame"/>
  <!-- camera left IR joints and links -->
  <joint name="camera_left_ir_joint" type="fixed">
    <origin rpy="0 0 0" xyz="0 0.0 0"/>
    <parent link="camera_depth_frame"/>
    <child link="camera_left_ir_frame"/>
  </joint>
  <link name="camera_left_ir_frame"/>
  <joint name="camera_left_ir_optical_joint" type="fixed">
    <origin rpy="-1.5707963267948966 0 -1.5707963267948966" xyz="0 0 0"/>
    <parent link="camera_left_ir_frame"/>
    <child link="camera_left_ir_optical_frame"/>
  </joint>
  <link name="camera_left_ir_optical_frame"/>
  <!-- camera right IR joints and links -->
  <joint name="camera_right_ir_joint" type="fixed">
    <origin rpy="0 0 0" xyz="0 -0.05 0"/>
    <parent link="camera_depth_frame"/>
    <child link="camera_right_ir_frame"/>
  </joint>
  <link name="camera_right_ir_frame"/>
  <joint name="camera_right_ir_optical_joint" type="fixed">
    <origin rpy="-1.5707963267948966 0 -1.5707963267948966" xyz="0 0 0"/>
    <parent link="camera_right_ir_frame"/>
    <child link="camera_right_ir_optical_frame"/>
  </joint>
  <link name="camera_right_ir_optical_frame"/>
  <!-- camera color joints and links -->
  <joint name="camera_color_joint" type="fixed">
    <origin rpy="0 0 0" xyz="0 0.015 0"/>
    <parent link="camera_depth_frame"/>
    <child link="camera_color_frame"/>
  </joint>
  <link name="camera_color_frame"/>
  <joint name="camera_color_optical_joint" type="fixed">
    <origin rpy="-1.5707963267948966 0 -1.5707963267948966" xyz="0 0 0"/>
    <parent link="camera_color_frame"/>
    <child link="camera_color_optical_frame"/>
  </joint>
  <link name="camera_color_optical_frame"/>
  <gazebo reference="camera_link">
    <self_collide>0</self_collide>
    <enable_wind>0</enable_wind>
    <kinematic>0</kinematic>
    <gravity>1</gravity>
    <!--<mu>1</mu>-->
    <mu2>1</mu2>
    <fdir1>0 0 0</fdir1>
    <!--<slip1>0</slip1>
      <slip2>0</slip2>-->
    <kp>1e+13</kp>
    <kd>1</kd>
    <!--<max_vel>0.01</max_vel>
      <min_depth>0</min_depth>-->
    <sensor name="cameracolor" type="camera">
      <camera name="camera">
        <horizontal_fov>1.2112585008840648</horizontal_fov>
        <image>
          <width>1920</width>
          <height>1080</height>
          <format>RGB_INT8</format>
        </image>
        <clip>
          <near>0.1</near>
          <far>100</far>
        </clip>
        <noise>
          <type>gaussian</type>
          <mean>0.0</mean>
          <stddev>0.007</stddev>
        </noise>
      </camera>
      <always_on>1</always_on>
      <update_rate>15</update_rate>
      <visualize>1</visualize>
    </sensor>
    <sensor name="cameraired1" type="camera">
      <camera name="camera">
        <horizontal_fov>1.4870205226991688</horizontal_fov>
        <image>
          <width>1280</width>
          <height>720</height>
          <format>L_INT8</format>
        </image>
        <clip>
          <near>0.1</near>
          <far>100</far>
        </clip>
        <noise>
          <type>gaussian</type>
          <mean>0.0</mean>
          <stddev>0.05</stddev>
        </noise>
      </camera>
      <always_on>1</always_on>
      <update_rate>90</update_rate>
      <visualize>0</visualize>
    </sensor>
    <sensor name="cameraired2" type="camera">
      <camera name="camera">
        <horizontal_fov>1.4870205226991688</horizontal_fov>
        <image>
          <width>1280</width>
          <height>720</height>
          <format>L_INT8</format>
        </image>
        <clip>
          <near>0.1</near>
          <far>100</far>
        </clip>
        <noise>
          <type>gaussian</type>
          <mean>0.0</mean>
          <stddev>0.05</stddev>
        </noise>
      </camera>
      <always_on>1</always_on>
      <update_rate>90</update_rate>
      <visualize>0</visualize>
    </sensor>
    <sensor name="cameradepth" type="depth">
      <camera name="camera">
        <horizontal_fov>1.4870205226991688</horizontal_fov>
        <image>
          <width>1280</width>
          <height>720</height>
        </image>
        <clip>
          <near>0.1</near>
          <far>100</far>
        </clip>
        <noise>
          <type>gaussian</type>
          <mean>0.0</mean>
          <stddev>0.100</stddev>
        </noise>
      </camera>
      <always_on>1</always_on>
      <update_rate>90</update_rate>
      <visualize>0</visualize>
    </sensor>
  </gazebo>
  <gazebo>
    <plugin filename="librealsense_gazebo_plugin.so" name="camera">
      <prefix>camera</prefix>
      <depthUpdateRate>60.0</depthUpdateRate>
      <colorUpdateRate>60.0</colorUpdateRate>
      <infraredUpdateRate>60.0</infraredUpdateRate>
      <depthTopicName>depth/image_raw</depthTopicName>
      <depthCameraInfoTopicName>depth/camera_info</depthCameraInfoTopicName>
      <colorTopicName>color/image_raw</colorTopicName>
      <colorCameraInfoTopicName>color/camera_info</colorCameraInfoTopicName>
      <infrared1TopicName>infra1/image_raw</infrared1TopicName>
      <infrared1CameraInfoTopicName>infra1/camera_info</infrared1CameraInfoTopicName>
      <infrared2TopicName>infra2/image_raw</infrared2TopicName>
      <infrared2CameraInfoTopicName>infra2/camera_info</infrared2CameraInfoTopicName>
      <colorOpticalframeName>camera_color_optical_frame</colorOpticalframeName>
      <depthOpticalframeName>camera_depth_optical_frame</depthOpticalframeName>
      <infrared1OpticalframeName>camera_left_ir_optical_frame</infrared1OpticalframeName>
      <infrared2OpticalframeName>camera_right_ir_optical_frame</infrared2OpticalframeName>
      <rangeMinDepth>0.2</rangeMinDepth>
      <rangeMaxDepth>10.0</rangeMaxDepth>
      <pointCloud>true</pointCloud>
      <pointCloudTopicName>depth/points</pointCloudTopicName>
      <pointCloudCutoff>0.5</pointCloudCutoff>
    </plugin>
  </gazebo>
  <link name="NEMA_24_1_1">
    <inertial>
      <origin rpy="0 0 0" xyz="3.1071066247667645e-07 3.0332681329736655e-06 0.04795079485405218"/>
      <mass value="2.4982959259379585"/>
      <inertia ixx="0.002718" ixy="0.0" ixz="-0.0" iyy="0.002718" iyz="-0.0" izz="0.001293"/>
    </inertial>
    <visual>
      <origin rpy="0 0 0" xyz="-0.314256 0.039266 -0.655"/>
      <geometry>
        <mesh filename="package://robot_description/meshes/NEMA_24_1_1.dae" scale="0.001 0.001 0.001"/>
      </geometry>
      <material name="silver"/>
    </visual>
    <collision>
      <origin rpy="0 0 0" xyz="-0.314256 0.039266 -0.655"/>
      <geometry>
        <mesh filename="package://robot_description/meshes/NEMA_24_1_1.dae" scale="0.001 0.001 0.001"/>
      </geometry>
    </collision>
  </link>
  <link name="DistanceSensor_front_1">
    <inertial>
      <origin rpy="0 0 0" xyz="0.006339069045313783 0.00018607602978239907 -0.00029784821062121825"/>
      <mass value="0.07929512168525539"/>
      <inertia ixx="2e-05" ixy="-0.0" ixz="-0.0" iyy="7e-06" iyz="-0.0" izz="1.8e-05"/>
    </inertial>
    <visual>
      <origin rpy="0 0 0" xyz="-0.514256 0.039266 -0.051064"/>
      <geometry>
        <mesh filename="package://robot_description/meshes/DistanceSensor_front_1.dae" scale="0.001 0.001 0.001"/>
      </geometry>
      <material name="silver"/>
    </visual>
    <collision>
      <origin rpy="0 0 0" xyz="-0.514256 0.039266 -0.051064"/>
      <geometry>
        <mesh filename="package://robot_description/meshes/DistanceSensor_front_1.dae" scale="0.001 0.001 0.001"/>
      </geometry>
    </collision>
  </link>
  <link name="DistanceSensor_left_1">
    <inertial>
      <origin rpy="0 0 0" xyz="-0.00018536542384783947 0.006339311349005006 -0.0002986765042564121"/>
      <mass value="0.07929512168525539"/>
      <inertia ixx="7e-06" ixy="0.0" ixz="0.0" iyy="2e-05" iyz="-0.0" izz="1.8e-05"/>
    </inertial>
    <visual>
      <origin rpy="0 0 0" xyz="0.004794 -0.279784 -0.048649"/>
      <geometry>
        <mesh filename="package://robot_description/meshes/DistanceSensor_left_1.dae" scale="0.001 0.001 0.001"/>
      </geometry>
      <material name="silver"/>
    </visual>
    <collision>
      <origin rpy="0 0 0" xyz="0.004794 -0.279784 -0.048649"/>
      <geometry>
        <mesh filename="package://robot_description/meshes/DistanceSensor_left_1.dae" scale="0.001 0.001 0.001"/>
      </geometry>
    </collision>
  </link>
  <link name="DistanceSensor_right_1">
    <inertial>
      <origin rpy="0 0 0" xyz="0.00018583372609121736 -0.006338358439378855 -0.0002986765042564815"/>
      <mass value="0.07929512168525539"/>
      <inertia ixx="7e-06" ixy="0.0" ixz="-0.0" iyy="2e-05" iyz="0.0" izz="1.8e-05"/>
    </inertial>
    <visual>
      <origin rpy="0 0 0" xyz="0.004794 0.358316 -0.048649"/>
      <geometry>
        <mesh filename="package://robot_description/meshes/DistanceSensor_right_1.dae" scale="0.001 0.001 0.001"/>
      </geometry>
      <material name="silver"/>
    </visual>
    <collision>
      <origin rpy="0 0 0" xyz="0.004794 0.358316 -0.048649"/>
      <geometry>
        <mesh filename="package://robot_description/meshes/DistanceSensor_right_1.dae" scale="0.001 0.001 0.001"/>
      </geometry>
    </collision>
  </link>
  <link name="DistanceSensor_back_1">
    <inertial>
      <origin rpy="0 0 0" xyz="-0.006338600743070466 -0.00018512312015624838 -0.00029784821062114886"/>
      <mass value="0.07929512168525539"/>
      <inertia ixx="2e-05" ixy="-0.0" ixz="0.0" iyy="7e-06" iyz="0.0" izz="1.8e-05"/>
    </inertial>
    <visual>
      <origin rpy="0 0 0" xyz="0.523844 0.039266 -0.051064"/>
      <geometry>
        <mesh filename="package://robot_description/meshes/DistanceSensor_back_1.dae" scale="0.001 0.001 0.001"/>
      </geometry>
      <material name="silver"/>
    </visual>
    <collision>
      <origin rpy="0 0 0" xyz="0.523844 0.039266 -0.051064"/>
      <geometry>
        <mesh filename="package://robot_description/meshes/DistanceSensor_back_1.dae" scale="0.001 0.001 0.001"/>
      </geometry>
    </collision>
  </link>
  <!-- ADD ONS-->
  <link name="modified_gripper_v3_1">
    <inertial>
      <origin rpy="0 0 0" xyz="0.02896330445643147 4.7645481737745854e-07 -1.1102230246251565e-16"/>
      <mass value="0.7210057123672229"/>
      <inertia ixx="0.000522" ixy="-0.0" ixz="0.0" iyy="0.000438" iyz="0.0" izz="0.000507"/>
    </inertial>
    <visual>
      <origin rpy="0 0 0" xyz="-1.619256 0.067746 -0.86"/>
      <geometry>
        <mesh filename="package://robot_description/meshes/modified_gripper_v3_1.stl" scale="0.001 0.001 0.001"/>
      </geometry>
      <material name="silver"/>
    </visual>
    <collision>
      <origin rpy="0 0 0" xyz="-1.619256 0.067746 -0.86"/>
      <geometry>
        <mesh filename="package://robot_description/meshes/modified_gripper_v3_1.stl" scale="0.001 0.001 0.001"/>
      </geometry>
    </collision>
  </link>
  <!--MODIFIED FINGERS-->
  <link name="finger_1_1">
    <inertial>
      <origin rpy="0 0 0" xyz="0.02263618038322157 -0.0016778710854973566 2.9802338374906867e-10"/>
      <mass value="0.017395172706082648"/>
      <inertia ixx="1e-06" ixy="0.0" ixz="0.0" iyy="4e-06" iyz="0.0" izz="4e-06"/>
    </inertial>
    <visual>
      <origin rpy="0 0 0" xyz="-1.703756 0.100246 -0.86"/>
      <geometry>
        <mesh filename="package://robot_description/meshes/finger_1_1.stl" scale="0.001 0.001 0.001"/>
      </geometry>
      <material name="silver"/>
    </visual>
    <collision>
      <origin rpy="0 0 0" xyz="-1.703756 0.100246 -0.86"/>
      <geometry>
        <mesh filename="package://robot_description/meshes/finger_1_1.stl" scale="0.001 0.001 0.001"/>
      </geometry>
    </collision>
  </link>
  <link name="finger_2_1">
    <inertial>
      <origin rpy="0 0 0" xyz="0.022636180383206472 0.001678823995166355 -2.9802316170446375e-10"/>
      <mass value="0.017395172706082648"/>
      <inertia ixx="1e-06" ixy="-0.0" ixz="-0.0" iyy="4e-06" iyz="0.0" izz="4e-06"/>
    </inertial>
    <visual>
      <origin rpy="0 0 0" xyz="-1.703756 0.035246 -0.86"/>
      <geometry>
        <mesh filename="package://robot_description/meshes/finger_2_1.stl" scale="0.001 0.001 0.001"/>
      </geometry>
      <material name="silver"/>
    </visual>
    <collision>
      <origin rpy="0 0 0" xyz="-1.703756 0.035246 -0.86"/>
      <geometry>
        <mesh filename="package://robot_description/meshes/finger_2_1.stl" scale="0.001 0.001 0.001"/>
      </geometry>
    </collision>
  </link>
  <!--changes-->
  <link name="camera_stuff_MODIFIED_camera_pitch_rotation_stand_v1_1">
    <inertial>
      <origin rpy="0 0 0" xyz="-1.7230276102175868e-05 -8.581321605388714e-08 0.013886903161764108"/>
      <mass value="0.14013559068395626"/>
      <inertia ixx="0.00016" ixy="-0.0" ixz="0.0" iyy="2.3e-05" iyz="0.0" izz="0.000141"/>
    </inertial>
    <visual>
      <origin rpy="0 0 0" xyz="-0.443487 -0.050734 -1.403236"/>
      <geometry>
        <mesh filename="package://robot_description/meshes/camera_stuff_MODIFIED_camera_pitch_rotation_stand_v1_1.stl" scale="0.001 0.001 0.001"/>
      </geometry>
      <material name="silver"/>
    </visual>
    <collision>
      <origin rpy="0 0 0" xyz="-0.443487 -0.050734 -1.403236"/>
      <geometry>
        <mesh filename="package://robot_description/meshes/camera_stuff_MODIFIED_camera_pitch_rotation_stand_v1_1.stl" scale="0.001 0.001 0.001"/>
      </geometry>
    </collision>
  </link>
  <link name="camera_stuff_MODIFIED_camera_pitch_rotation_base_v1_1">
    <inertial>
      <origin rpy="0 0 0" xyz="0.00011284358524088489 0.03249927945228931 -0.00023275211680062746"/>
      <mass value="0.12151628240010111"/>
      <inertia ixx="5e-05" ixy="0.0" ixz="-0.0" iyy="5e-06" iyz="-0.0" izz="4.7e-05"/>
    </inertial>
    <visual>
      <origin rpy="0 0 0" xyz="-0.44334 -0.017234 -1.437236"/>
      <geometry>
        <mesh filename="package://robot_description/meshes/camera_stuff_MODIFIED_camera_pitch_rotation_base_v1_1.stl" scale="0.001 0.001 0.001"/>
      </geometry>
      <material name="silver"/>
    </visual>
    <collision>
      <origin rpy="0 0 0" xyz="-0.44334 -0.017234 -1.437236"/>
      <geometry>
        <mesh filename="package://robot_description/meshes/camera_stuff_MODIFIED_camera_pitch_rotation_base_v1_1.stl" scale="0.001 0.001 0.001"/>
      </geometry>
    </collision>
  </link>
  <!-- END OF ADD ONS-->
  <joint name="Rigid1" type="fixed">
    <origin rpy="0 0 0" xyz="0.514256 -0.039266 0.595"/>
    <parent link="base_link"/>
    <child link="arm_base_1"/>
  </joint>
  <joint name="Rigid4" type="fixed">
    <origin rpy="0 0 0" xyz="0.0 0.03652 0.0"/>
    <parent link="NEMA_34_1"/>
    <child link="stepper_joint_1"/>
  </joint>
  <joint name="link_1_joint" type="continuous">
    <origin rpy="0 0 0" xyz="0.0 0.0 0.0"/>
    <parent link="stepper_joint_1"/>
    <child link="link_1_1"/>
    <axis xyz="0.0 1.0 0.0"/>
  </joint>
  <joint name="link_2_joint" type="continuous">
    <origin rpy="0 0 0" xyz="0.515 0.0 0.0"/>
    <parent link="link_1_1"/>
    <child link="link_2_1"/>
    <axis xyz="0.0 1.0 0.0"/>
  </joint>
  <joint name="link_3_joint" type="continuous">
    <origin rpy="0 0 0" xyz="0.07 -0.035 0.0"/>
    <parent link="link_2_1"/>
    <child link="link_3_1"/>
    <axis xyz="-1.0 0.0 -0.0"/>
  </joint>
  <joint name="link_end_joint" type="continuous">
    <origin rpy="0 0 0" xyz="0.455 -0.03 0.0"/>
    <parent link="link_3_1"/>
    <child link="link_end_1"/>
    <axis xyz="-0.0 -1.0 -0.0"/>
  </joint>
  <joint name="Rigid10" type="fixed">
    <origin rpy="0 0 0" xyz="0.1375 0.0 0.0"/>
    <parent link="link_1_1"/>
    <child link="NEMA_24_2_1"/>
  </joint>
  <joint name="Rigid11" type="fixed">
    <origin rpy="0 0 0" xyz="-0.03 -0.035 0.0"/>
    <parent link="link_2_1"/>
    <child link="NEMA_24_3_1"/>
  </joint>
  <joint name="Rigid12" type="fixed">
    <origin rpy="0 0 0" xyz="0.02 -0.0325 -0.03"/>
    <parent link="link_2_1"/>
    <child link="NEMA_24_4_1"/>
  </joint>
  <!--

<joint name="Rigid18" type="fixed">
  <origin rpy="0 0 0" xyz="0.05 0.04 0.0"/>
  <parent link="link_end_1"/>
  <child link="gripper_base_1"/>
</joint>



<joint name="finger_1_joint" type="continuous">
  <origin rpy="0 0 0" xyz="0.0845 0.0 0.0325"/>
  <parent link="gripper_base_1"/>
  <child link="gripper_finger_1_1"/>
  <axis xyz="-0.0 -1.0 -0.0"/>
</joint>

<joint name="finger_2_joint" type="continuous">
  <origin rpy="0 0 0" xyz="0.0845 -0.028145 -0.01625"/>
  <parent link="gripper_base_1"/>
  <child link="gripper_finger_2_1"/>
  <axis xyz="0.0 0.5 -0.866025"/>
</joint>

<joint name="finger_3_joint" type="continuous">
  <origin rpy="0 0 0" xyz="0.0845 0.028146 -0.01625"/>
  <parent link="gripper_base_1"/>
  <child link="gripper_finger_3_1"/>
  <axis xyz="0.0 0.5 0.866025"/>
</joint>

-->
  <!-- MODIFIED PARTS -->
  <joint name="gripper_axis_rev" type="fixed">
    <origin rpy="0 0 0" xyz="0.05 0.04 0.0"/>
    <parent link="link_end_1"/>
    <child link="modified_gripper_v3_1"/>
  </joint>
  <joint name="finger_1_revolute_joint" type="continuous">
    <origin rpy="0 0 0" xyz="0.0845 -0.0325 0.0"/>
    <parent link="modified_gripper_v3_1"/>
    <child link="finger_1_1"/>
    <axis xyz="0.0 0.0 -1.0"/>
  </joint>
  <joint name="finger_2_revolute_joint" type="continuous">
    <origin rpy="0 0 0" xyz="0.0845 0.0325 0.0"/>
    <parent link="modified_gripper_v3_1"/>
    <child link="finger_2_1"/>
    <axis xyz="-0.0 0.0 1.0"/>
  </joint>
  <joint name="camera_yaw_rotation" type="continuous">
    <origin rpy="0 0 0" xyz="0.004109 0.09 0.629833"/>
    <parent link="base_turnable_1"/>
    <child link="camera_stuff_MODIFIED_camera_pitch_rotation_stand_v1_1"/>
    <axis xyz="0.001414 0.0 -0.999999"/>
  </joint>
  <joint name="camera_pitch_rotation" type="continuous">
    <origin rpy="0 0 0" xyz="-0.000147 -0.0335 0.034"/>
    <parent link="camera_stuff_MODIFIED_camera_pitch_rotation_stand_v1_1"/>
    <child link="camera_stuff_MODIFIED_camera_pitch_rotation_base_v1_1"/>
    <axis xyz="0.0 1.0 0.0"/>
  </joint>
  <joint name="Rigid49" type="fixed">
    <!--account for this -->
    <origin rpy="0 0 0" xyz="0.000335 0.032499 0.010001"/>
    <parent link="camera_stuff_MODIFIED_camera_pitch_rotation_base_v1_1"/>
    <child link="RealSense_Camera_1"/>
    <axis xyz="-0.001414 -0.0 0.999999"/>
  </joint>
  <!-- EOF MODIFIED PARTS -->
  <joint name="wheel_joint_front_left" type="continuous">
    <origin rpy="0 0 0" xyz="0.389785 0.351556 0.072882"/>
    <parent link="base_link"/>
    <child link="wheel_front_left_1"/>
    <axis xyz="0.0 -1.0 -0.0"/>
  </joint>
  <joint name="wheel_joint_back_right" type="continuous">
    <origin rpy="0 0 0" xyz="-0.399993 -0.429444 0.072882"/>
    <parent link="base_link"/>
    <child link="wheel_back_right_1"/>
    <axis xyz="0.0 1.0 0.0"/>
  </joint>
  <joint name="wheel_joint_front_right" type="continuous">
    <origin rpy="0 0 0" xyz="0.390007 -0.429444 0.072882"/>
    <parent link="base_link"/>
    <child link="wheel_front_right_1"/>
    <axis xyz="0.0 1.0 0.0"/>
  </joint>
  <joint name="wheel_joint_back_left" type="continuous">
    <origin rpy="0 0 0" xyz="-0.400215 0.351556 0.072882"/>
    <parent link="base_link"/>
    <child link="wheel_back_left_1"/>
    <axis xyz="0.0 -1.0 -0.0"/>
  </joint>
  <joint name="Rigid26" type="fixed">
    <origin rpy="0 0 0" xyz="-0.242882 -0.039266 0.283202"/>
    <parent link="base_link"/>
    <child link="nylon_platform_1"/>
  </joint>
  <joint name="arm_base_joint" type="continuous">
    <origin rpy="0 0 0" xyz="-0.075 0.0 0.18"/>
    <parent link="arm_base_1"/>
    <child link="base_turnable_1"/>
    <axis xyz="-0.0 0.0 -1.0"/>
  </joint>
  <joint name="Rigid28" type="fixed">
    <origin rpy="0 0 0" xyz="0.09 -0.04 0.085"/>
    <parent link="base_turnable_1"/>
    <child link="NEMA_34_1"/>
  </joint>
  <!--
<joint name="camera_revolute" type="continuous">
  <origin rpy="0 0 0" xyz="0.005 0.09 0.629827"/>
  <parent link="base_turnable_1"/>
  <child link="RealSense_Camera_1"/>
  <axis xyz="-0.0 0.0 -1.0"/>
</joint>
-->
  <joint name="Rigid30" type="fixed">
    <origin rpy="0 0 0" xyz="-0.2 0.0 0.06"/>
    <parent link="arm_base_1"/>
    <child link="NEMA_24_1_1"/>
  </joint>
  <joint name="Rigid31" type="fixed">
    <origin rpy="0 0 0" xyz="0.514256 -0.039266 0.051064"/>
    <parent link="base_link"/>
    <child link="DistanceSensor_front_1"/>
  </joint>
  <joint name="Rigid32" type="fixed">
    <origin rpy="0 0 0" xyz="-0.004794 0.279784 0.048649"/>
    <parent link="base_link"/>
    <child link="DistanceSensor_left_1"/>
  </joint>
  <joint name="Rigid33" type="fixed">
    <origin rpy="0 0 0" xyz="-0.004794 -0.358316 0.048649"/>
    <parent link="base_link"/>
    <child link="DistanceSensor_right_1"/>
  </joint>
  <joint name="Rigid34" type="fixed">
    <origin rpy="0 0 0" xyz="-0.523844 -0.039266 0.051064"/>
    <parent link="base_link"/>
    <child link="DistanceSensor_back_1"/>
  </joint>
</robot>
